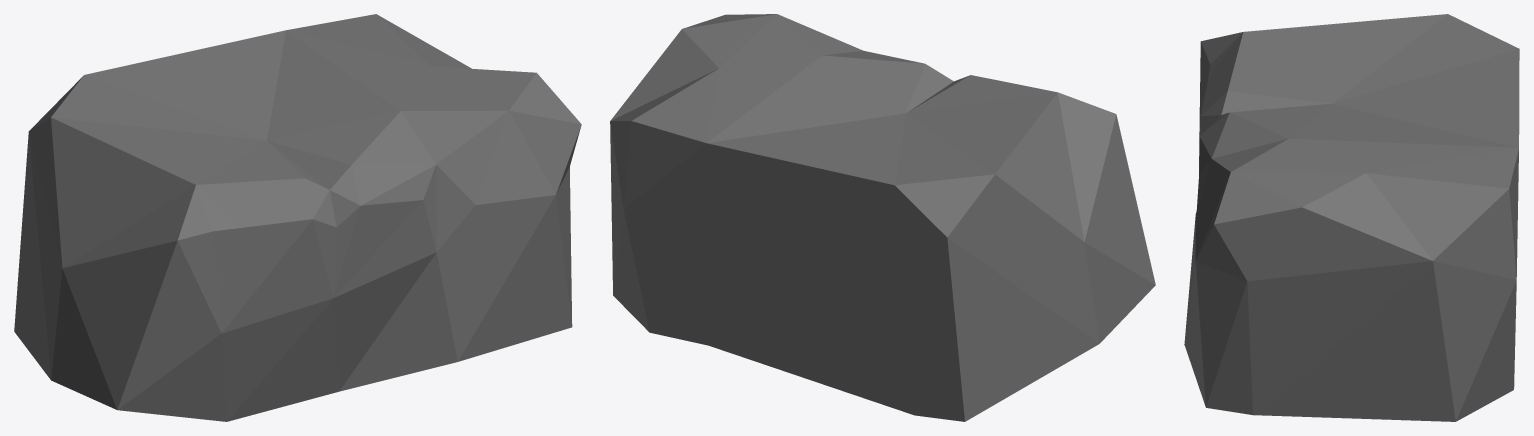
Rendered from rock_004.glb.
3 renders of one model, left to right at view 1: azimuth 30°, elevation 25°; view 2: azimuth 150°, elevation 25°; view 3: azimuth 270°, elevation 25°, orthographic. The views are drawn at different scales.
Parts seen in each view (by area): view 1: rock_004; view 2: rock_004; view 3: rock_004.
Boxes of the visible parts, x1,y1,x2,y2 form: rock_004: [14, 14, 581, 421]; rock_004: [610, 14, 1155, 421]; rock_004: [1184, 14, 1519, 421].
Size of the model in its own units: 29.47 by 14.82 by 18.65.
Materials: 1 (1 with a texture image).
